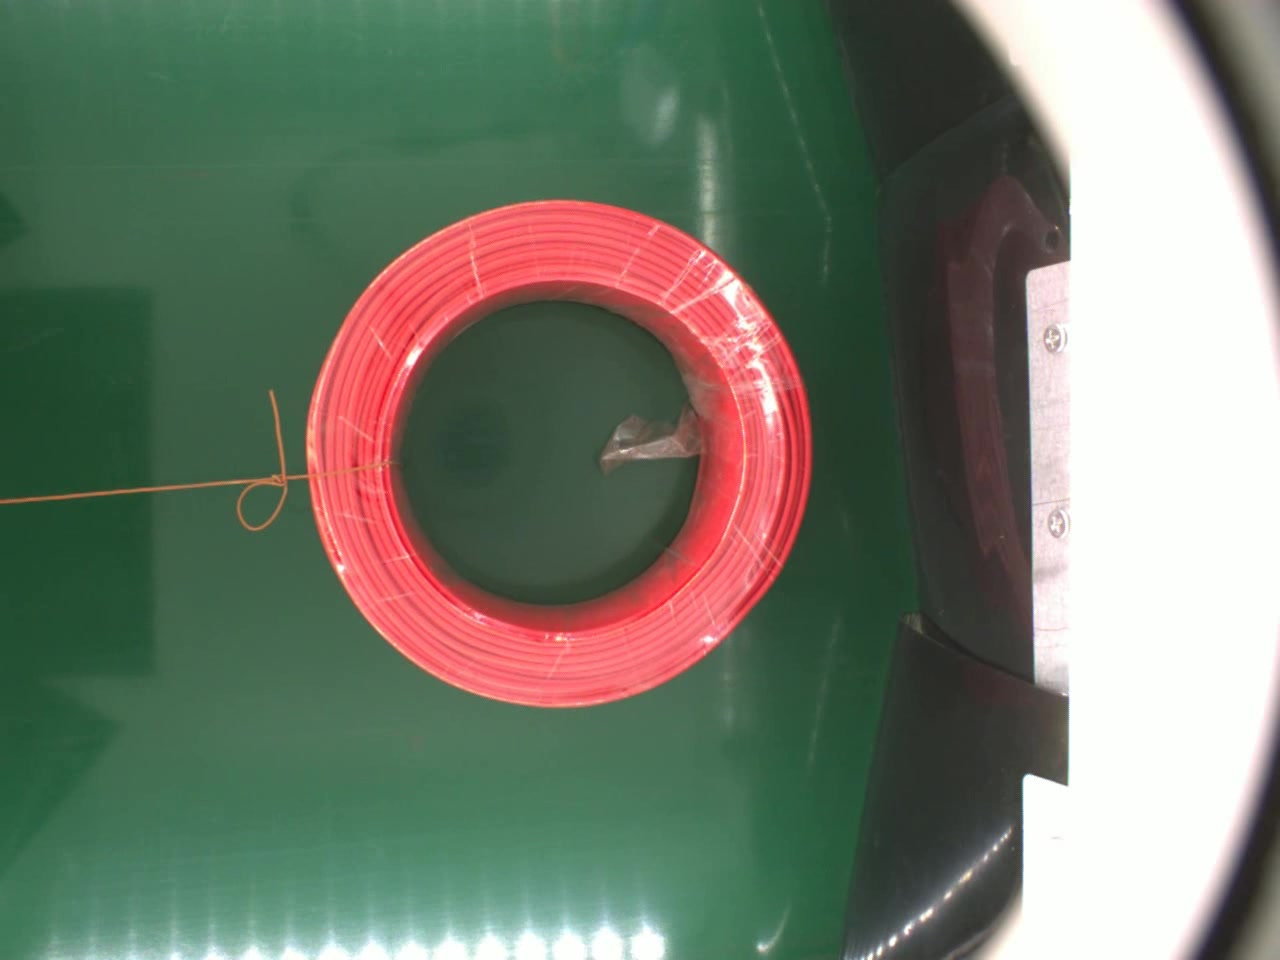red: (302, 188, 825, 705)
